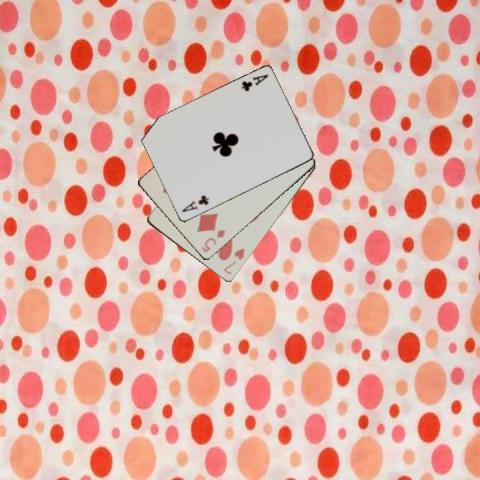5d: (198, 227, 227, 254)
7h: (221, 245, 246, 276)
Ac: (178, 193, 210, 214), (239, 72, 269, 93)
